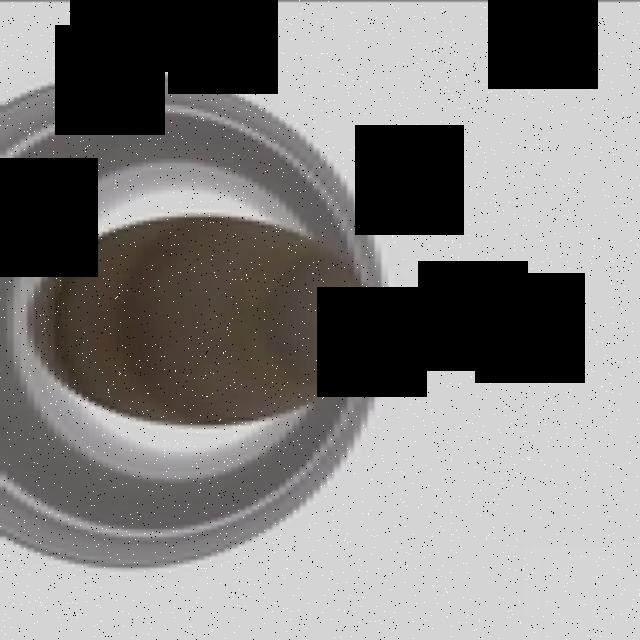Saturn: (0, 70, 388, 570)
